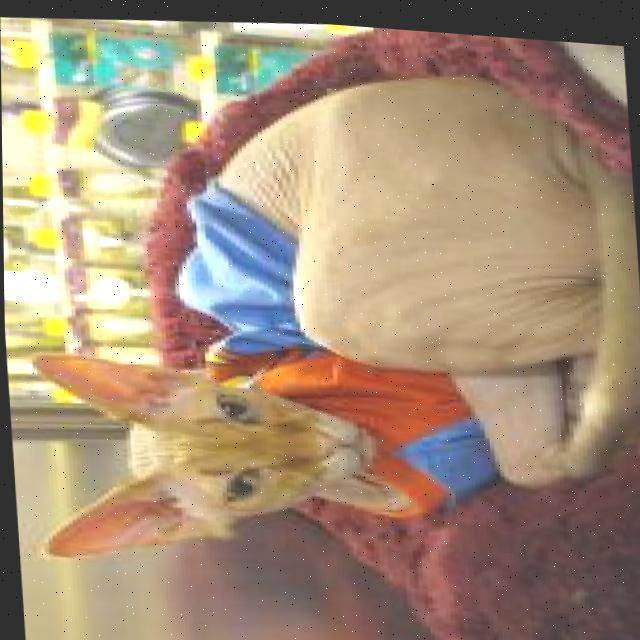Sphynx: (3, 33, 640, 595)
